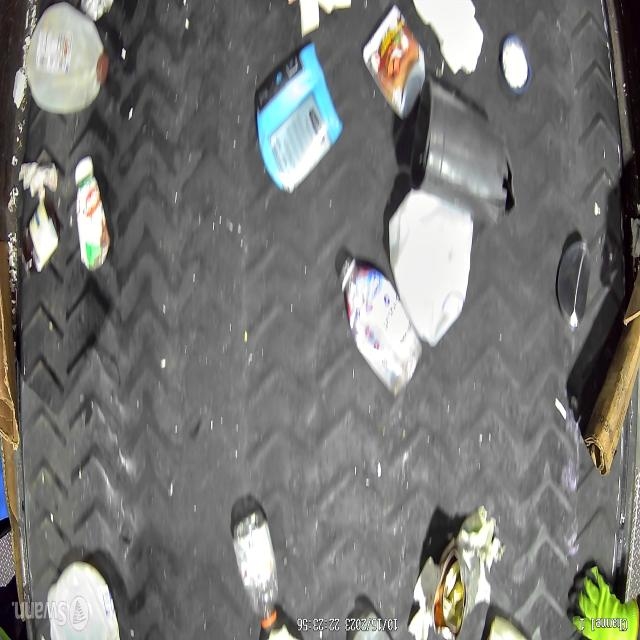can: (432, 545, 481, 640), (556, 239, 591, 330)
milk_jug: (387, 187, 472, 345), (26, 3, 111, 116), (47, 561, 120, 640)
plastic_bottle: (338, 254, 422, 396), (230, 509, 280, 630)
